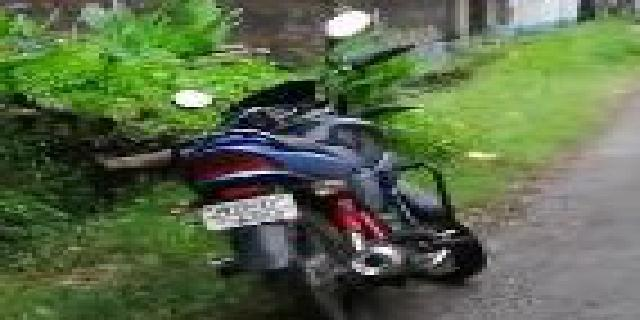Motorbike: (153, 6, 490, 312)
